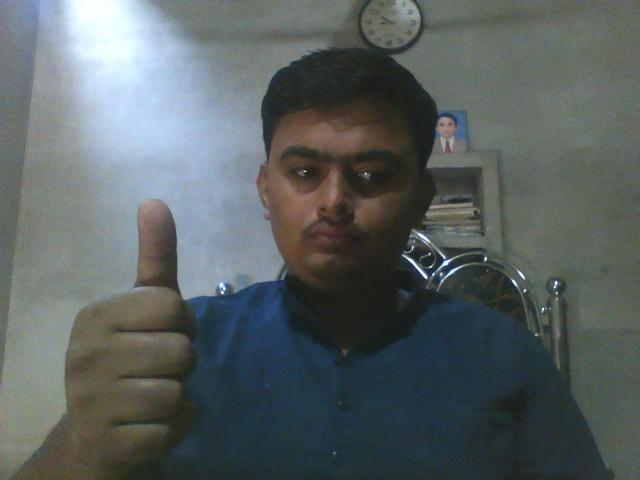Yes: (65, 193, 232, 480)
